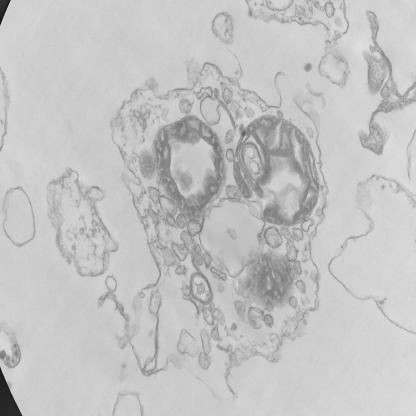mitochondria: (236, 120, 317, 220)
